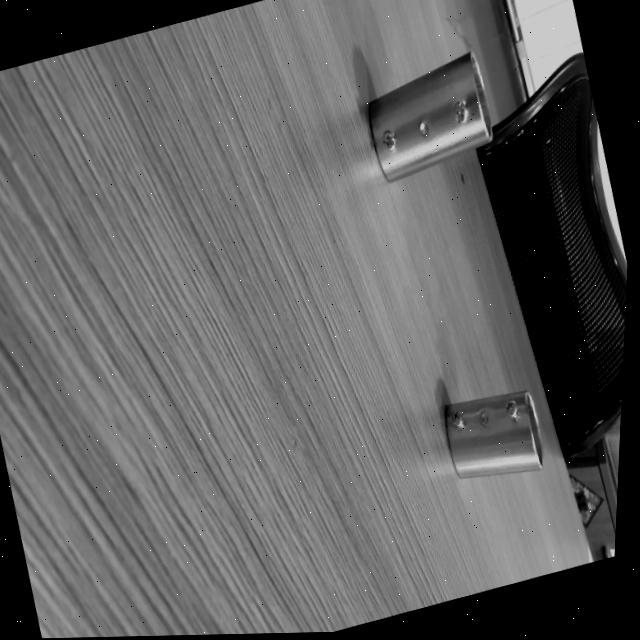Co_Lon: (354, 51, 507, 183)
Co_Nho: (441, 388, 546, 483)
